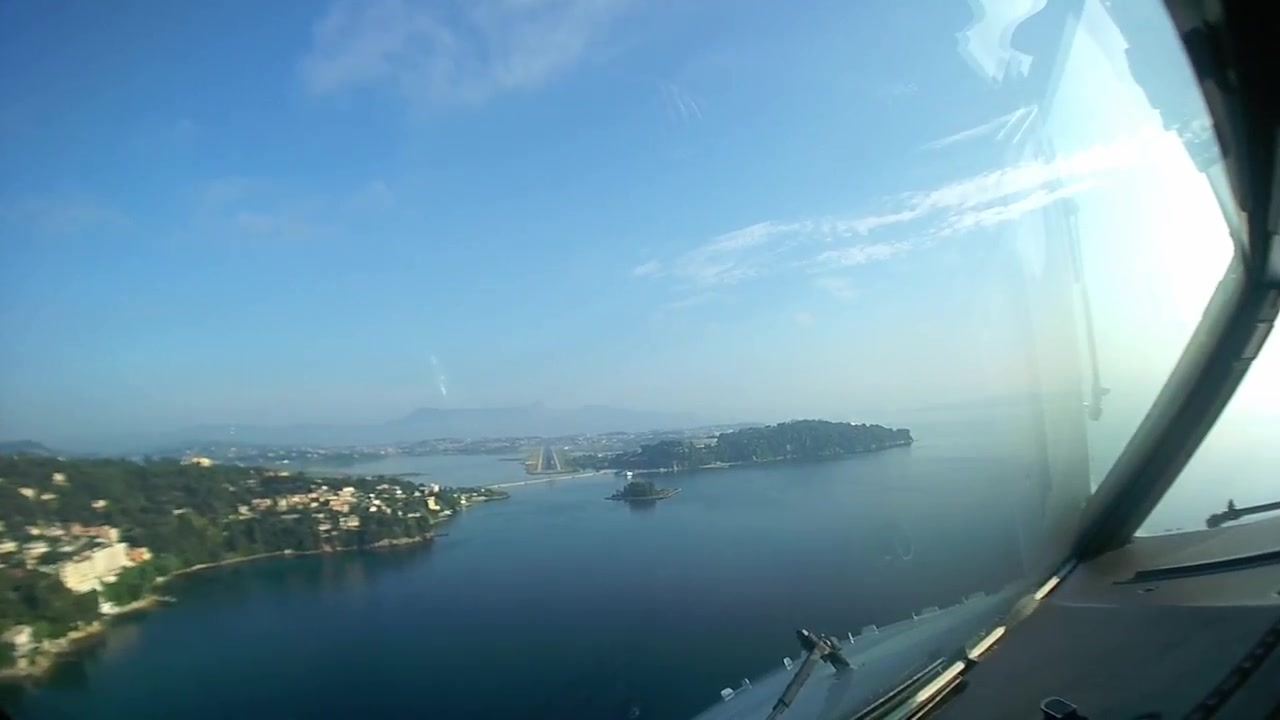runway: (535, 444, 560, 475)
